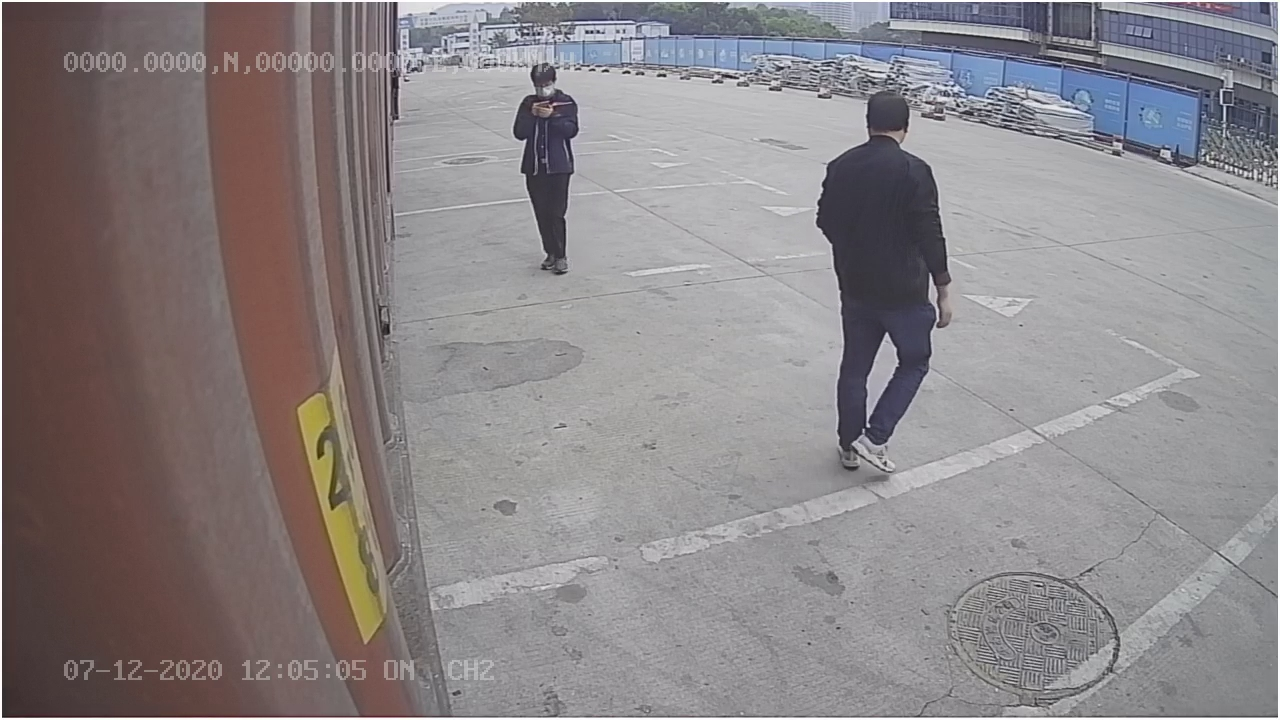person: (813, 83, 959, 474)
